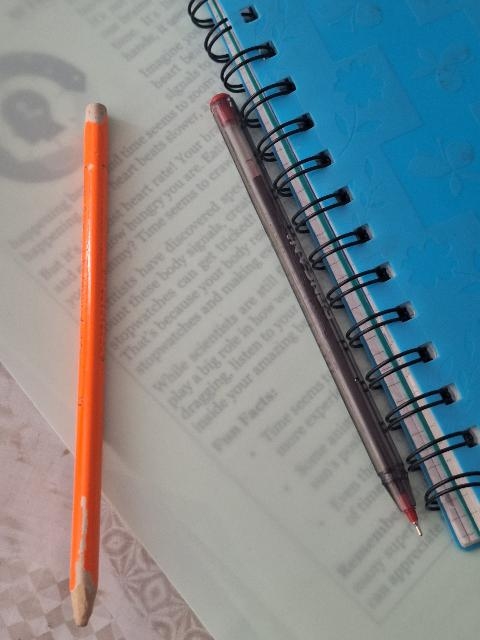writing_tool: (210, 93, 429, 543), (71, 104, 112, 627)
